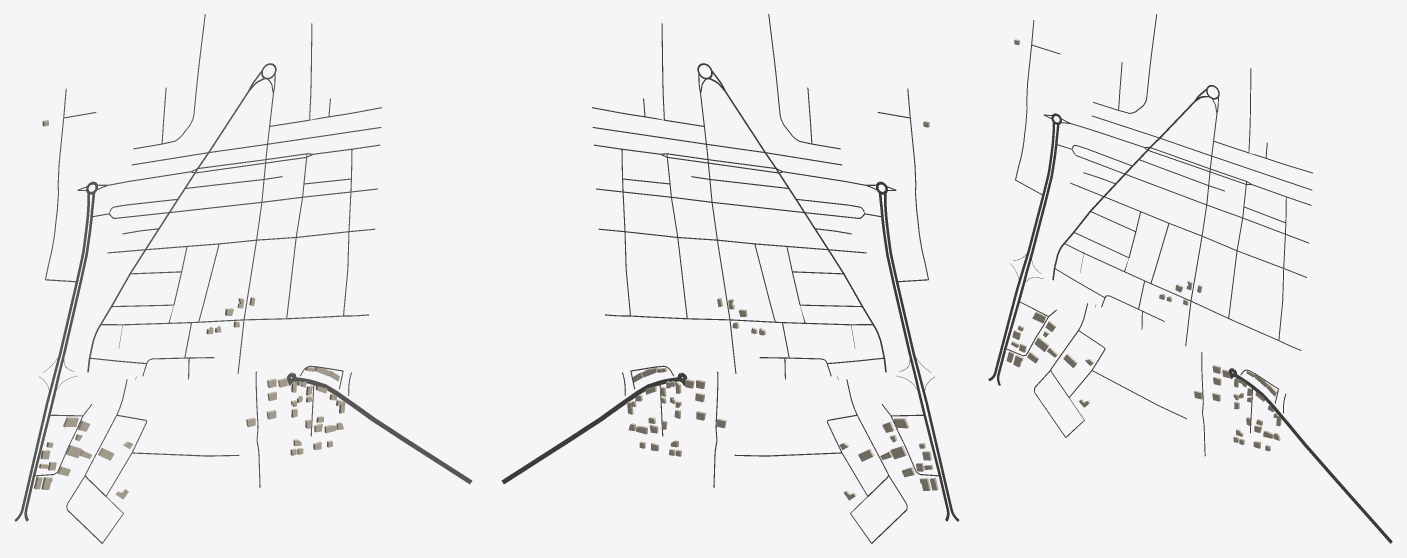
The model's file is irbid_3588_3254.glb.
3 renders of one model, left to right at view 1: azimuth 30°, elevation 25°; view 2: azimuth 150°, elevation 25°; view 3: azimuth 330°, elevation 25°, orthographic. The views are drawn at different scales.
Visible parts, largest first — view 1: Road .026, Road .028, Road الملك حسين, Road .009; view 2: Road .026, Road .028, Road الملك حسين, Road .009; view 3: Road الملك حسين, Road .026, Road .028, Road .009.
Part boxes in pixels (x1=…): Road .026: x1=24, y1=192, x2=95, y2=521; Road .028: x1=14, y1=192, x2=89, y2=521; Road الملك حسين: x1=293, y1=377, x2=472, y2=484; Road .009: x1=87, y1=90, x2=249, y2=372; Road .026: x1=878, y1=192, x2=949, y2=521; Road .028: x1=884, y1=192, x2=959, y2=521; Road الملك حسين: x1=501, y1=377, x2=680, y2=484; Road .009: x1=724, y1=90, x2=886, y2=372; Road الملك حسين: x1=1234, y1=373, x2=1392, y2=543; Road .026: x1=997, y1=124, x2=1059, y2=385; Road .028: x1=988, y1=122, x2=1054, y2=380; Road .009: x1=1052, y1=100, x2=1195, y2=280.
Bounding box in the file's own units: 1354 × 1512 × 8.7.
